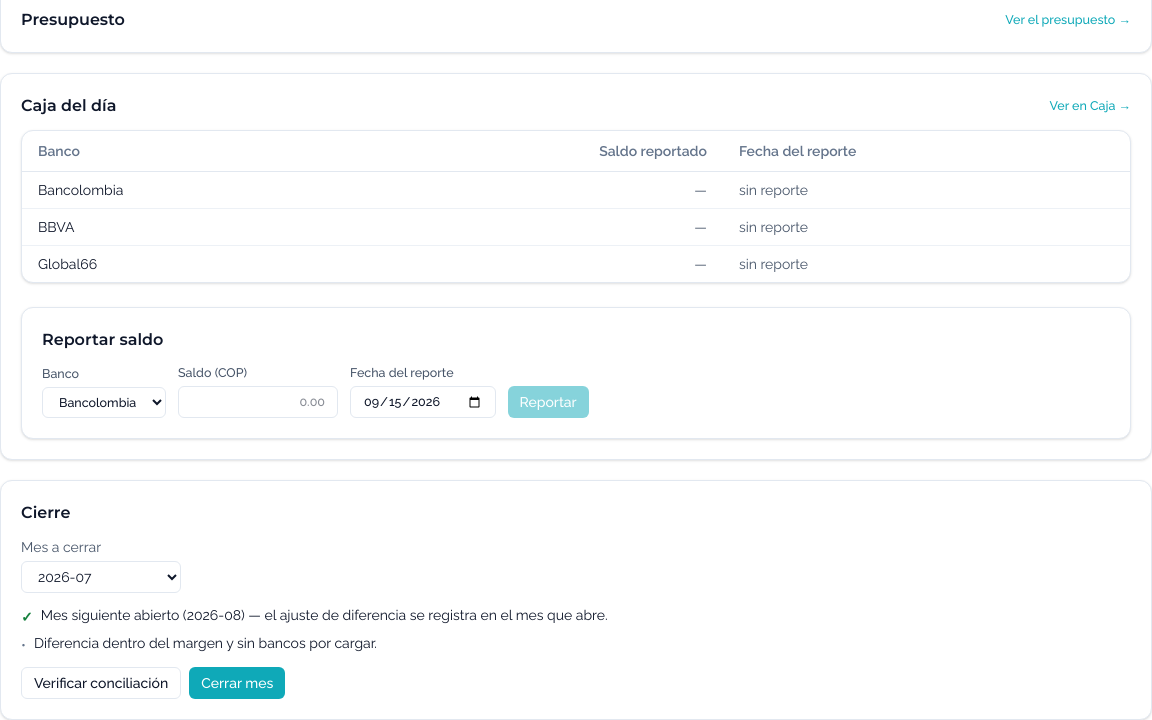
Test case: CabinaMesPage — FIX-J: cierre en orden con selector de mes objetivo › confirmar cierra el OBJETIVO 2026-07 con el tránsito en el body
(page scrolled)
Click the button "Cerrar mes" at {"x": 237, "y": 683}, box [189,667,285,699]
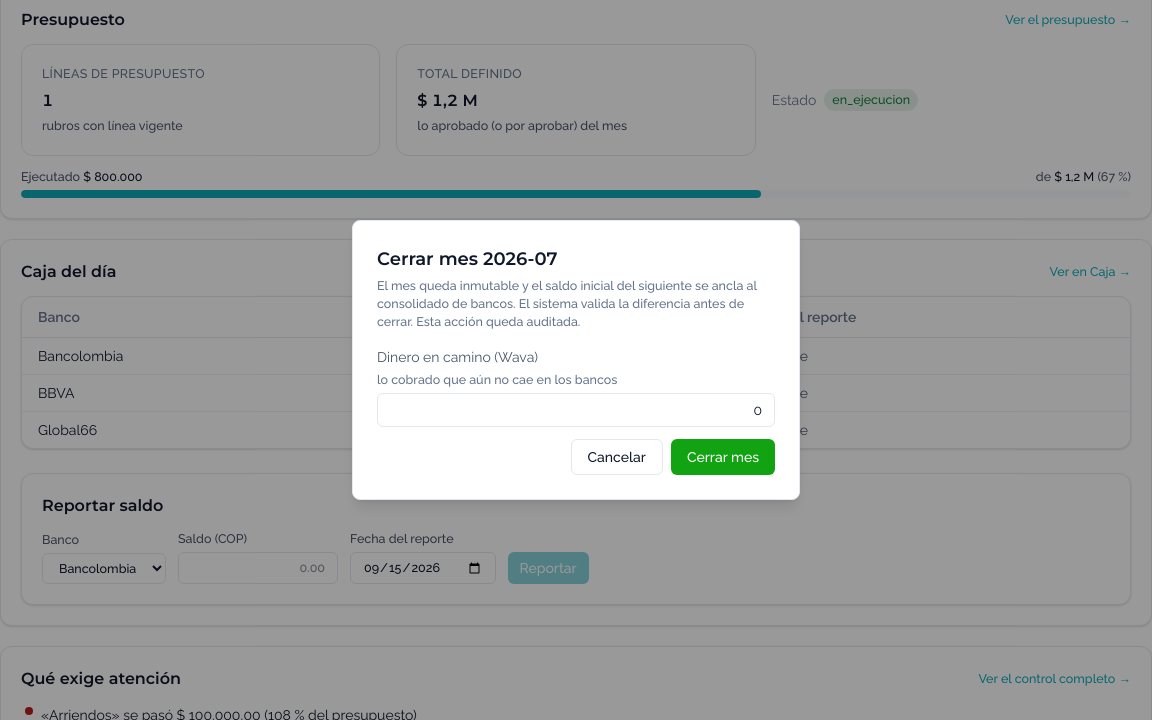
Expected: the dialog "Cerrar mes" shows "Cerrar mes 2026-07", [352,220,800,500]
Type "37280415" into the field named "Dinero en tránsito (Wava)" at {"x": 576, "y": 410}, box [377,393,775,427]
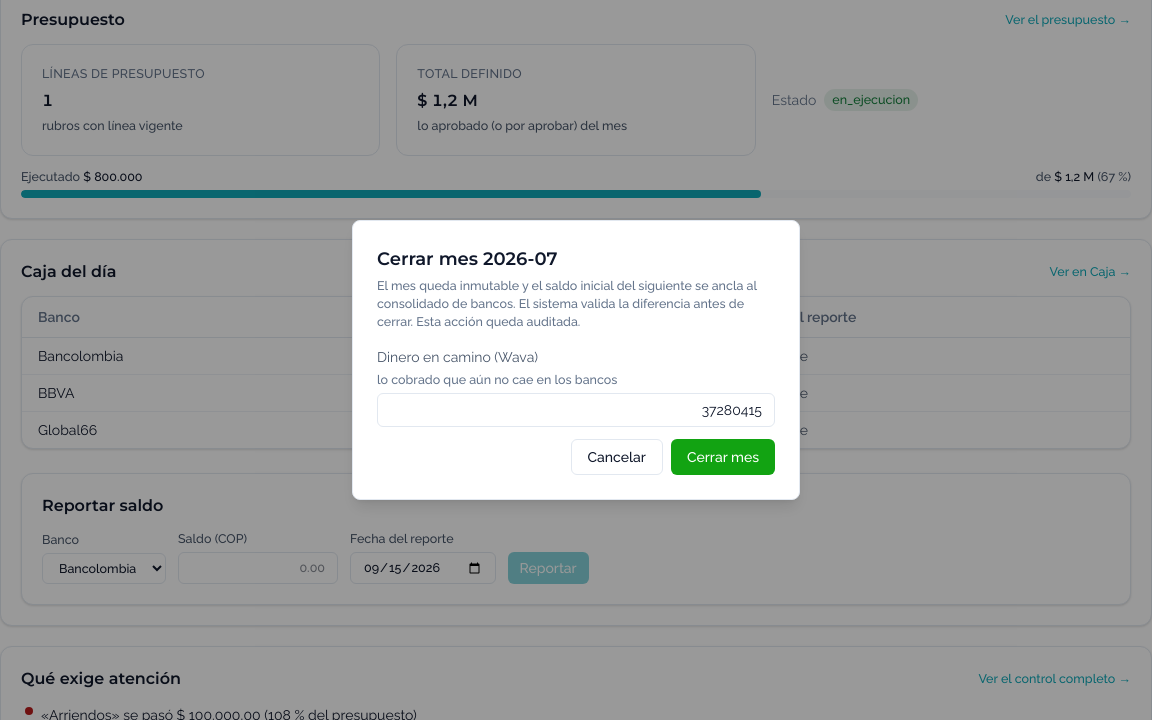
Click the button "Cerrar mes" at {"x": 723, "y": 457}, box [671,439,775,475]
(page scrolled)
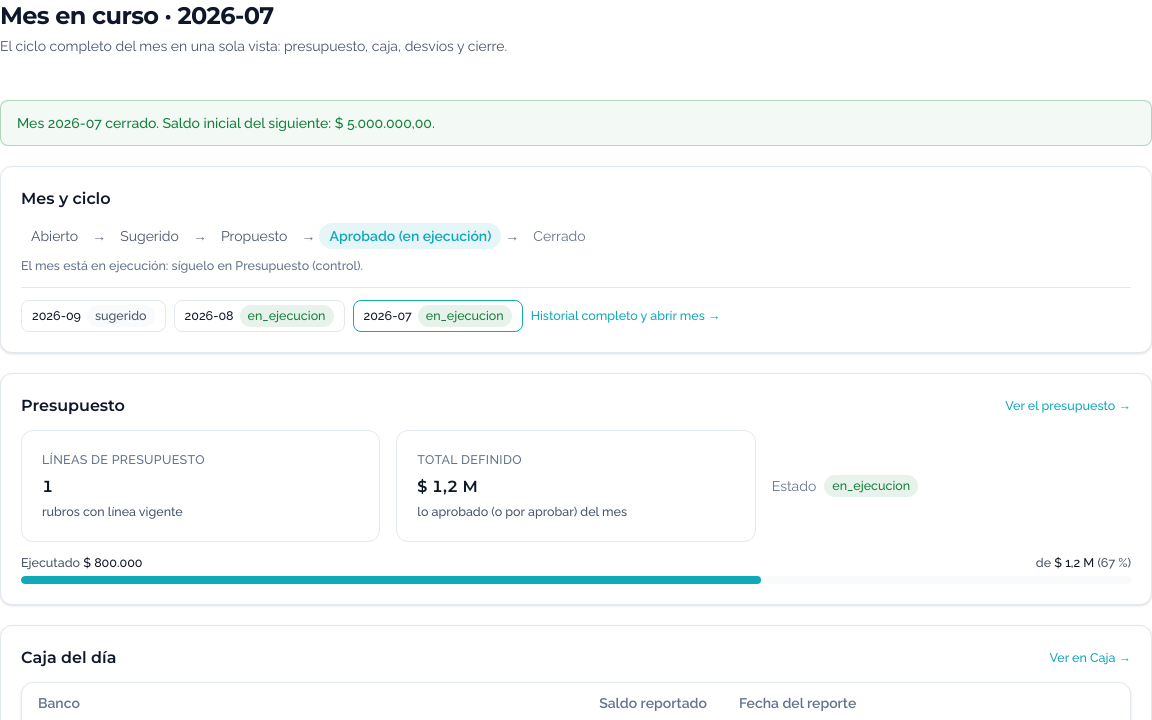
Expected: the text "Mes 2026-07 cerrado. Saldo inicial del siguiente: $ 5.000.000,00." is shown, [0,100,1151,146]
